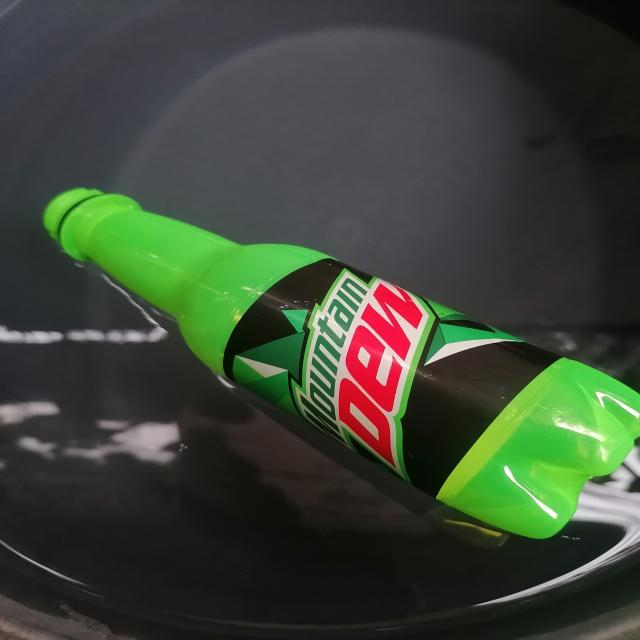Plastic Bottle: (32, 170, 640, 550)
